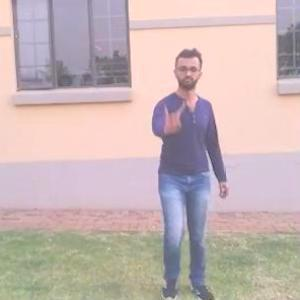takeoff-hand: (157, 94, 187, 139)
